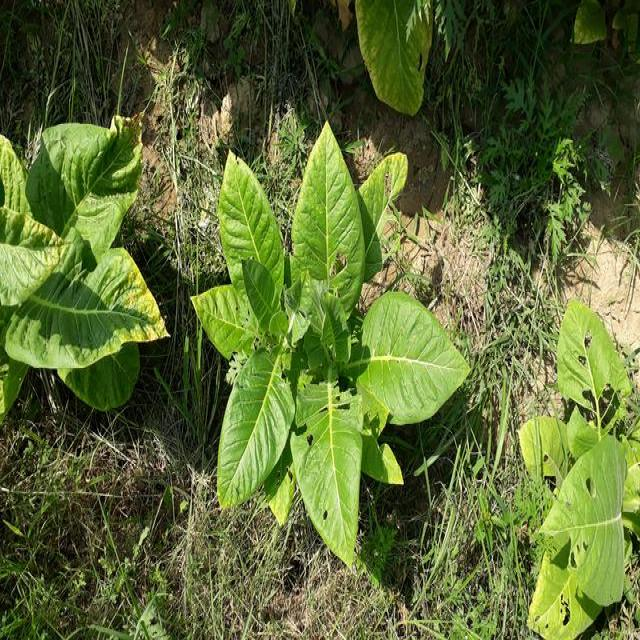crop: (197, 125, 470, 562), (0, 120, 172, 421), (516, 315, 630, 640)
